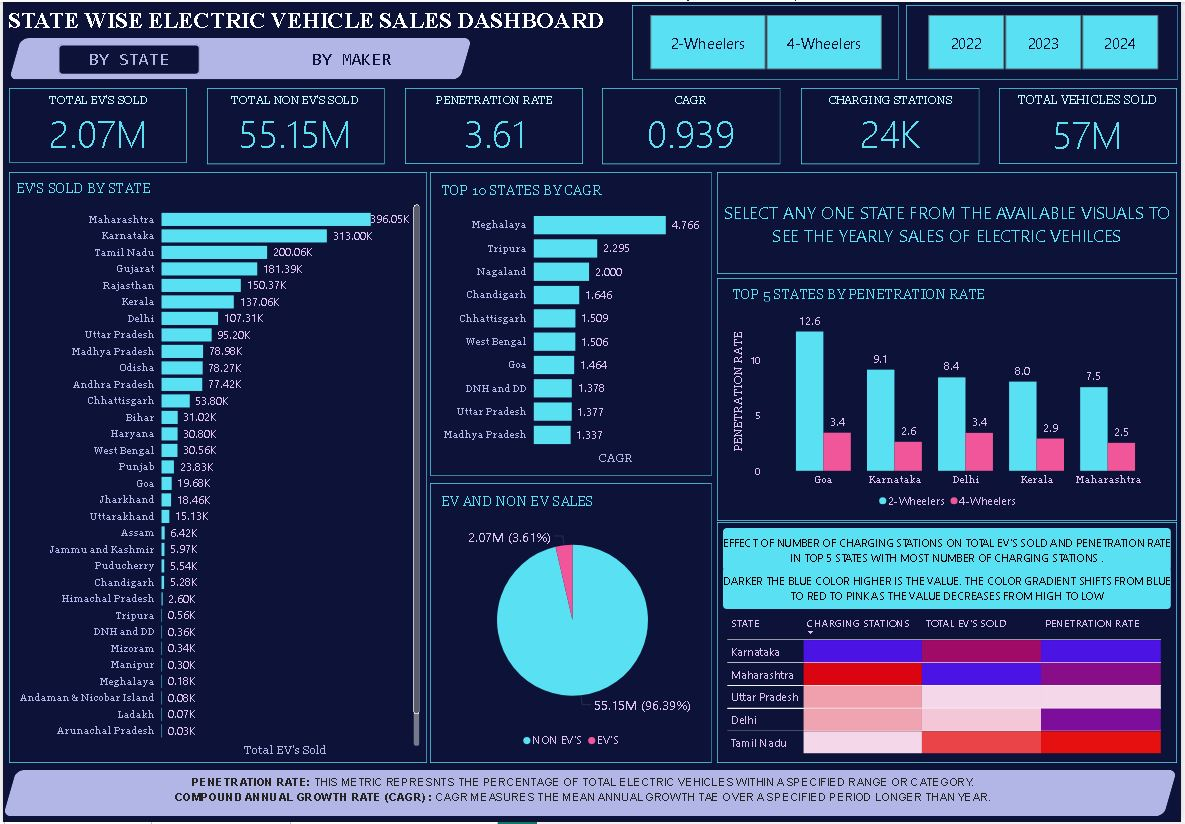

What the dashboard file says about the page in this screenshot:
{"tool":"powerbi","page":{"name":"Dashboard","canvas":[1652,1150],"ordinal":0},"visuals":[{"type":"shape","title":"TOP 10 STATES BY CAGR","box":[1266.4,4.2,381.5,105.2],"z":0},{"type":"shape","box":[8.5,51.1,649.2,58.4],"z":1000},{"type":"shape","title":"TOP 10 STATES BY CAGR","box":[598.8,674.6,395.5,392.7],"z":2000},{"type":"shape","title":"TOP 10 STATES BY CAGR","box":[598.8,238.4,395.5,426.3],"z":3000},{"type":"shape","box":[8.4,238.4,586.2,828.8],"z":4000},{"type":"shape","box":[1118.8,120.6,250.5,107],"z":5000},{"type":"shape","box":[840.7,120.6,250.5,107],"z":6000},{"type":"shape","box":[563.8,120.6,249.6,106.6],"z":7000},{"type":"shape","box":[285.7,120.6,249.2,107],"z":8000},{"type":"shape","box":[7,4.2,875.1,43.5],"z":9000},{"type":"actionButton","box":[76.6,58.4,199.4,43.8],"z":10000},{"type":"actionButton","box":[387.8,58.4,200.6,43.8],"z":11000},{"type":"shape","box":[8.4,120.6,249.6,105.2],"z":12000},{"type":"card","title":"TOTAL EV''S SOLD","fields":{"Values":["Key Measures.Total Ev's sold by state"]},"box":[36.5,127.6,194.9,91.2],"z":13000},{"type":"card","title":"CAGR","fields":{"Values":["Key Measures.CAGR by state"]},"box":[868.7,127.9,193.3,91.2],"z":14000},{"type":"card","title":"PENETRATION RATE","fields":{"Values":["Key Measures.Penetration rate"]},"box":[592.7,127.9,193.3,91.2],"z":15000},{"type":"card","title":"CHARGING STATIONS","fields":{"Values":["Key Measures.Total Charging Sttaions"]},"box":[1146.8,127.9,194.5,91.2],"z":16000},{"type":"card","title":"TOTAL NON EV''S SOLD","fields":{"Values":["Key Measures.Total Non-Ev's sold"]},"box":[312.4,127.9,193.3,91.2],"z":17000},{"type":"barChart","title":"TOP 10 STATES BY CAGR","fields":{"Y":["Key Measures.CAGR by state"],"Category":["Charging_Station.State"]},"box":[610.1,251,371.6,402.5],"z":18000},{"type":"clusteredBarChart","title":"EV''S SOLD BY STATE","fields":{"Y":["Key Measures.Total Ev's sold by state"],"Category":["Charging_Station.State"]},"box":[14,248.2,575,814.8],"z":19000},{"type":"pieChart","title":"EV AND NON EV SALES","fields":{"Y":["Key Measures.Total Non-Ev's sold","Key Measures.Total Ev's sold by state"]},"box":[610.1,687.2,377.3,368.8],"z":20000},{"type":"shape","box":[1397.2,120.6,249.6,106.6],"z":21000},{"type":"card","title":"TOTAL VEHICLES SOLD","fields":{"Values":["Key Measures.Total Vehicles Sold by state"]},"box":[1417.2,127.6,209,91.2],"z":22000},{"type":"shape","title":"TOP 10 STATES BY CAGR","box":[1001.3,387.1,645.1,340.8],"z":23000},{"type":"clusteredColumnChart","title":"TOP 5 STATES BY PENETRATION RATE ","fields":{"Y":["Key Measures.Penetration rate"],"Series":["ev_sales_by_state.vehicle_category"],"Category":["Charging_Station.State"]},"box":[1018.2,396.9,617.1,322.6],"z":24000},{"type":"shape","title":"TOP 10 STATES BY CAGR","box":[1001.3,729.3,645.1,338],"z":25000},{"type":"tableEx","fields":{"Values":["Charging_Station.State","Key Measures.Total Charging Sttaions","Key Measures.Total Ev's sold by state","Key Measures.Penetration rate"]},"box":[1009.8,849.9,625.5,213.2],"z":26000},{"type":"shape","box":[1009.8,737.7,628.3,60.3],"z":27000},{"type":"shape","box":[1009.8,792.4,628.3,58.9],"z":28000},{"type":"slicer","fields":{"Values":["dim_date.fiscal_year"]},"box":[1272,11.2,371.6,89.8],"z":29000},{"type":"shape","box":[0,1077.1,1646.5,64.5],"z":30000},{"type":"textbox","box":[79.9,1079.9,1467,57.5],"z":31000},{"type":"shape","box":[1001.3,238.4,645.1,143],"z":32000},{"type":"lineChart","title":"YEARLY EV SALES OF","fields":{"Category":["dim_date.fiscal_year"],"Y":["Key Measures.State-wise EV Sales"]},"box":[1009.8,251,625.5,120.6],"z":33000},{"type":"shape","box":[1009.8,244,350.6,37.9],"z":34000},{"type":"shape","title":"TOP 10 STATES BY CAGR","box":[882.1,4.2,374.5,105.2],"z":35000},{"type":"slicer","fields":{"Values":["ev_sales_by_state.vehicle_category"]},"box":[882.1,11.2,374.5,89.8],"z":36000}]}

Visuals, with their boxes in screenshot pixels (x1, y1, x2, y2), scaled from the page's 1652x1150 canvas onto the 1185x824 screenshot:
"TOP 10 STATES BY CAGR" shape: crop(908, 3, 1182, 78)
shape: crop(6, 37, 472, 78)
"TOP 10 STATES BY CAGR" shape: crop(430, 483, 713, 765)
"TOP 10 STATES BY CAGR" shape: crop(430, 171, 713, 476)
shape: crop(6, 171, 427, 765)
shape: crop(803, 86, 982, 163)
shape: crop(603, 86, 783, 163)
shape: crop(404, 86, 583, 163)
shape: crop(205, 86, 384, 163)
shape: crop(5, 3, 633, 34)
actionButton: crop(55, 42, 198, 73)
actionButton: crop(278, 42, 422, 73)
shape: crop(6, 86, 185, 162)
"TOTAL EV''S SOLD" card: crop(26, 91, 166, 157)
"CAGR" card: crop(623, 92, 762, 157)
"PENETRATION RATE" card: crop(425, 92, 564, 157)
"CHARGING STATIONS" card: crop(823, 92, 962, 157)
"TOTAL NON EV''S SOLD" card: crop(224, 92, 363, 157)
"TOP 10 STATES BY CAGR" barChart: crop(438, 180, 704, 468)
"EV''S SOLD BY STATE" clusteredBarChart: crop(10, 178, 422, 762)
"EV AND NON EV SALES" pieChart: crop(438, 492, 708, 757)
shape: crop(1002, 86, 1181, 163)
"TOTAL VEHICLES SOLD" card: crop(1017, 91, 1166, 157)
"TOP 10 STATES BY CAGR" shape: crop(718, 277, 1181, 522)
"TOP 5 STATES BY PENETRATION RATE " clusteredColumnChart: crop(730, 284, 1173, 516)
"TOP 10 STATES BY CAGR" shape: crop(718, 523, 1181, 765)
tableEx - Charging_Station.State x Key Measures.Total Charging Sttaions: crop(724, 609, 1173, 762)
shape: crop(724, 529, 1175, 572)
shape: crop(724, 568, 1175, 610)
slicer - dim_date.fiscal_year: crop(912, 8, 1179, 72)
shape: crop(0, 772, 1181, 818)
textbox: crop(57, 774, 1110, 815)
shape: crop(718, 171, 1181, 273)
"YEARLY EV SALES OF" lineChart: crop(724, 180, 1173, 266)
shape: crop(724, 175, 976, 202)
"TOP 10 STATES BY CAGR" shape: crop(633, 3, 901, 78)
slicer - ev_sales_by_state.vehicle_category: crop(633, 8, 901, 72)
